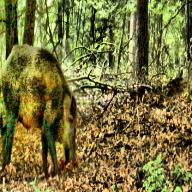boar: (0, 23, 82, 174)
